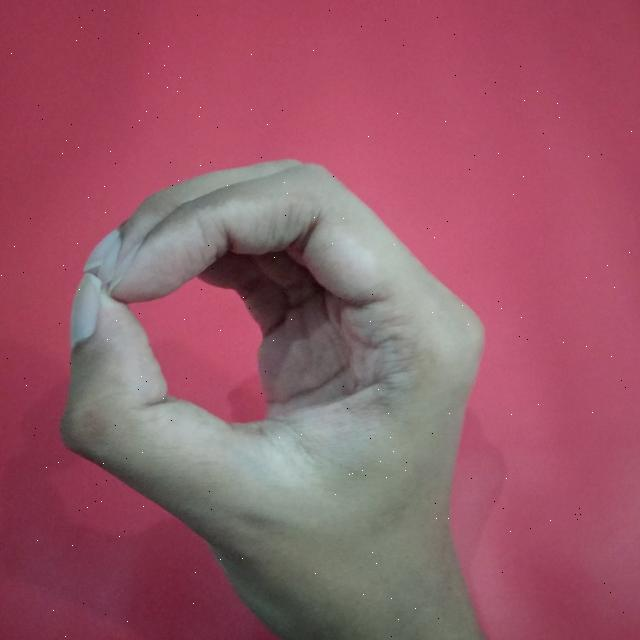O: (53, 146, 510, 640)
